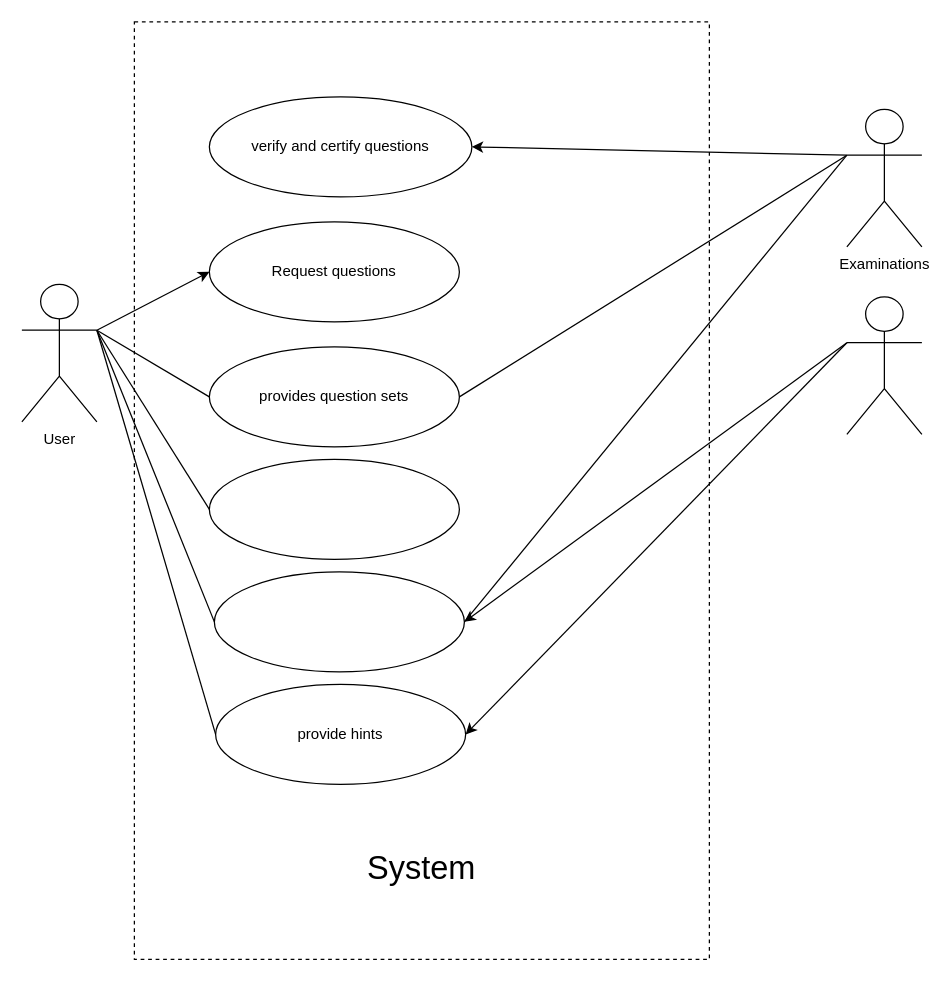
Some shapes in this 951 by 981 pixel diagram are drawn without their labels. Each missing label, with the box of its shape:
provides hints if requested: (208, 458, 459, 559)
provides questions: (213, 571, 464, 672)
Tutor: (846, 296, 922, 434)
